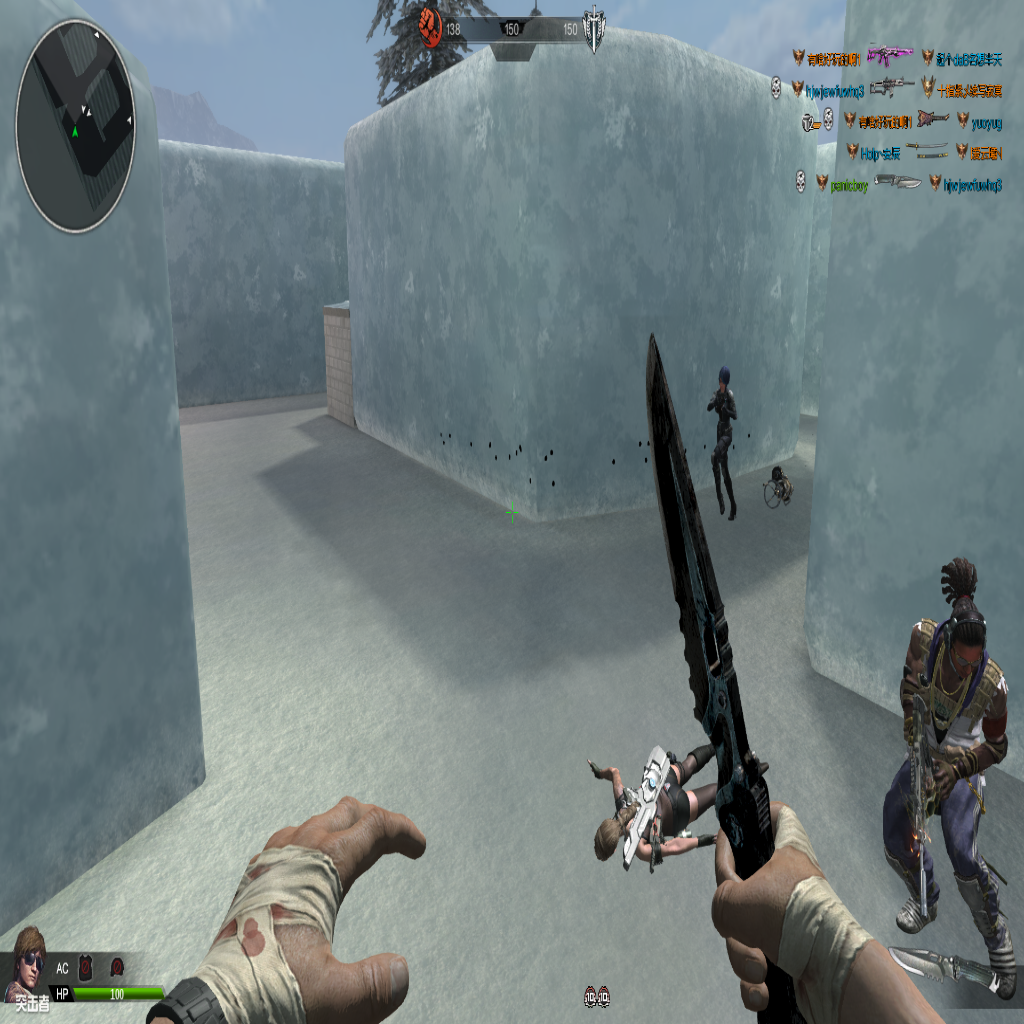ct: (706, 362, 739, 523)
